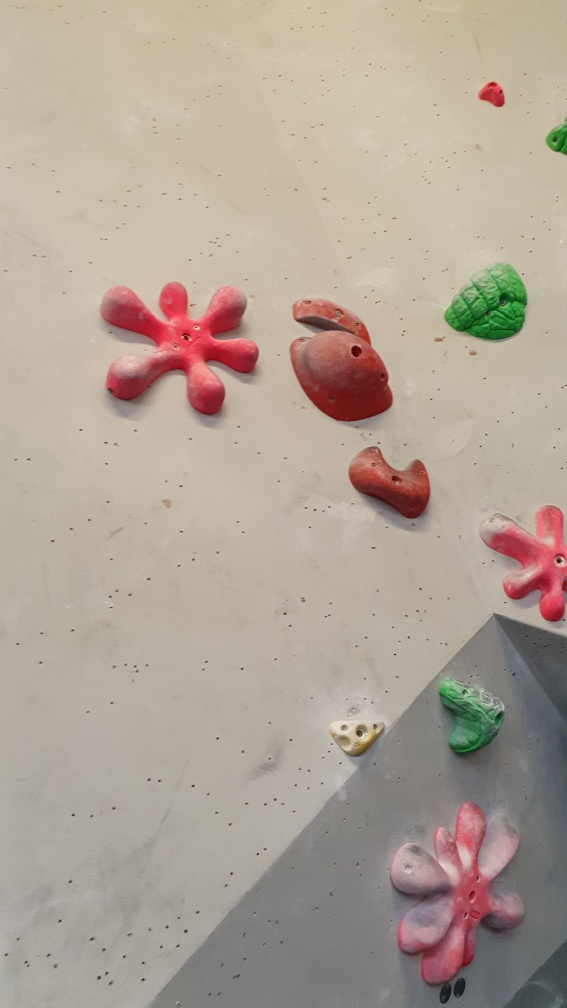Octopus Pinch: (384, 803, 528, 988), (95, 279, 258, 415), (477, 499, 565, 629)
